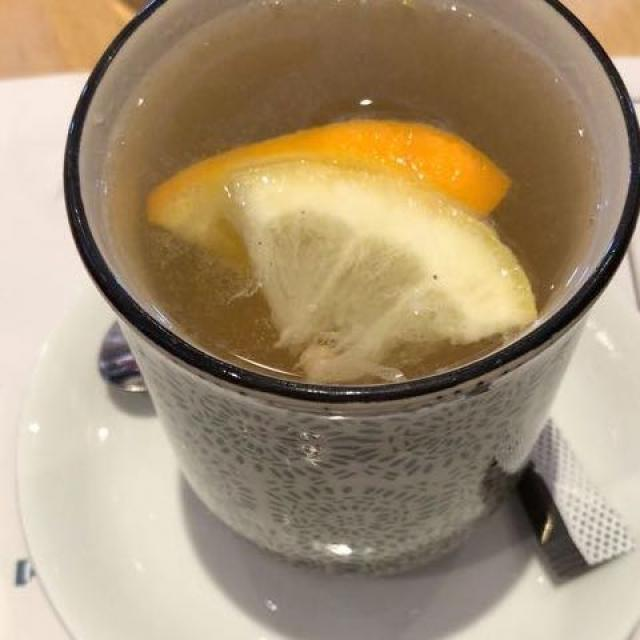lemon: (264, 142, 468, 336)
